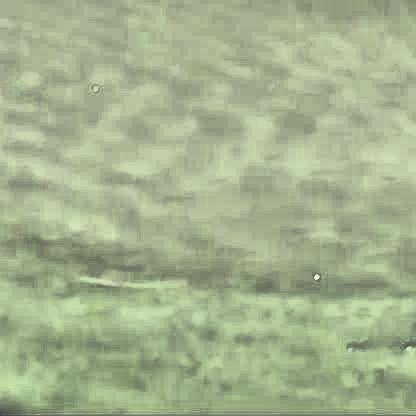golfball: (309, 270, 319, 280)
